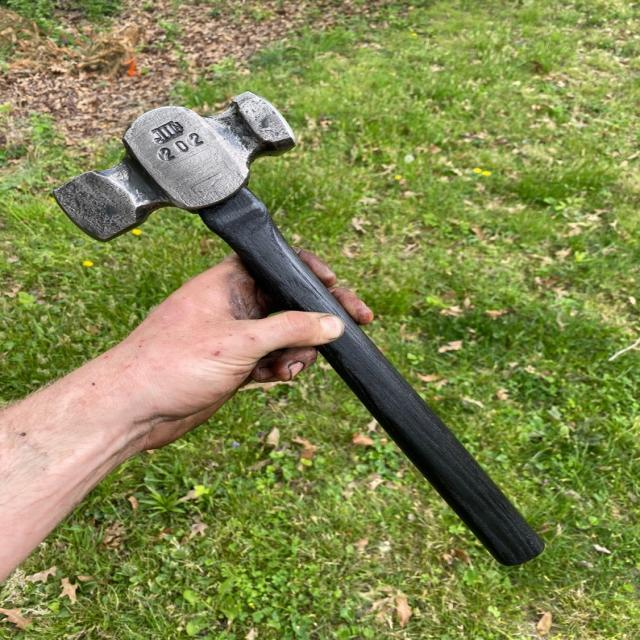hammer: (49, 86, 557, 574)
